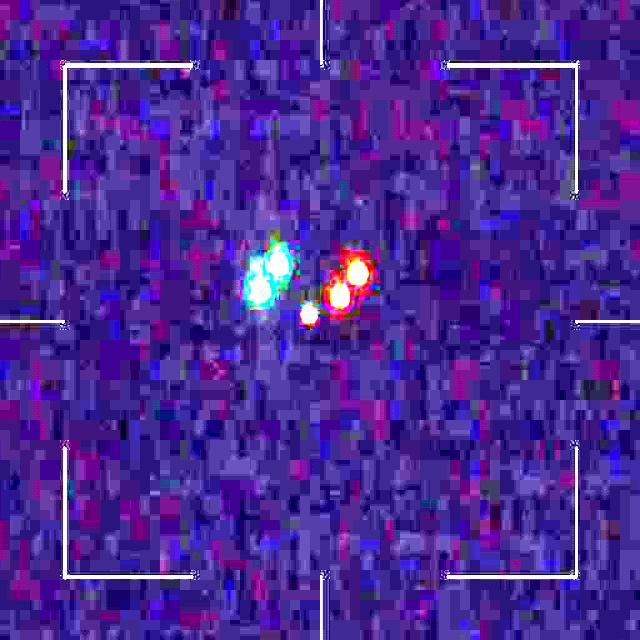bird: (251, 250, 370, 328)
